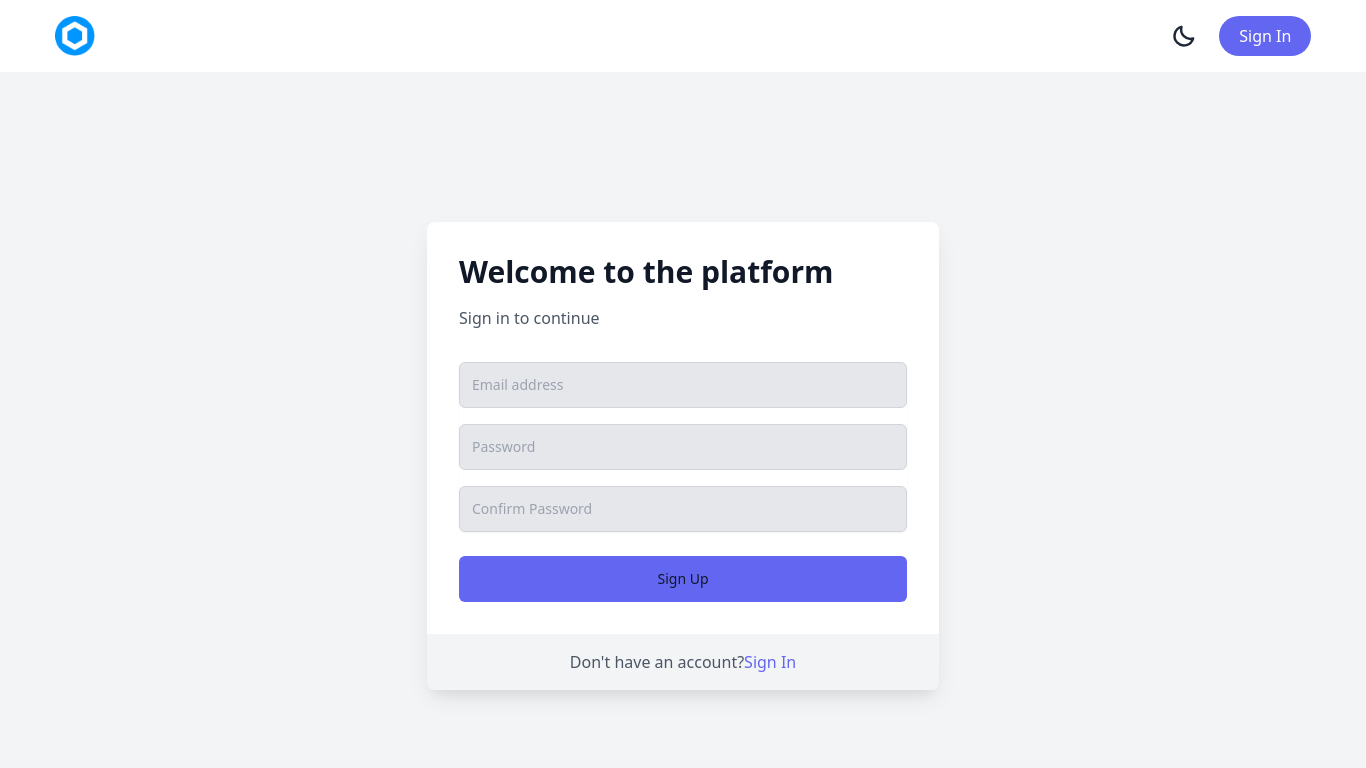
Test case: Login Page › should display an error when passwords do not match
Type "user@example.com" into the field named "email".
click(683, 385); type("user@example.com")  # box [459,362,907,408]
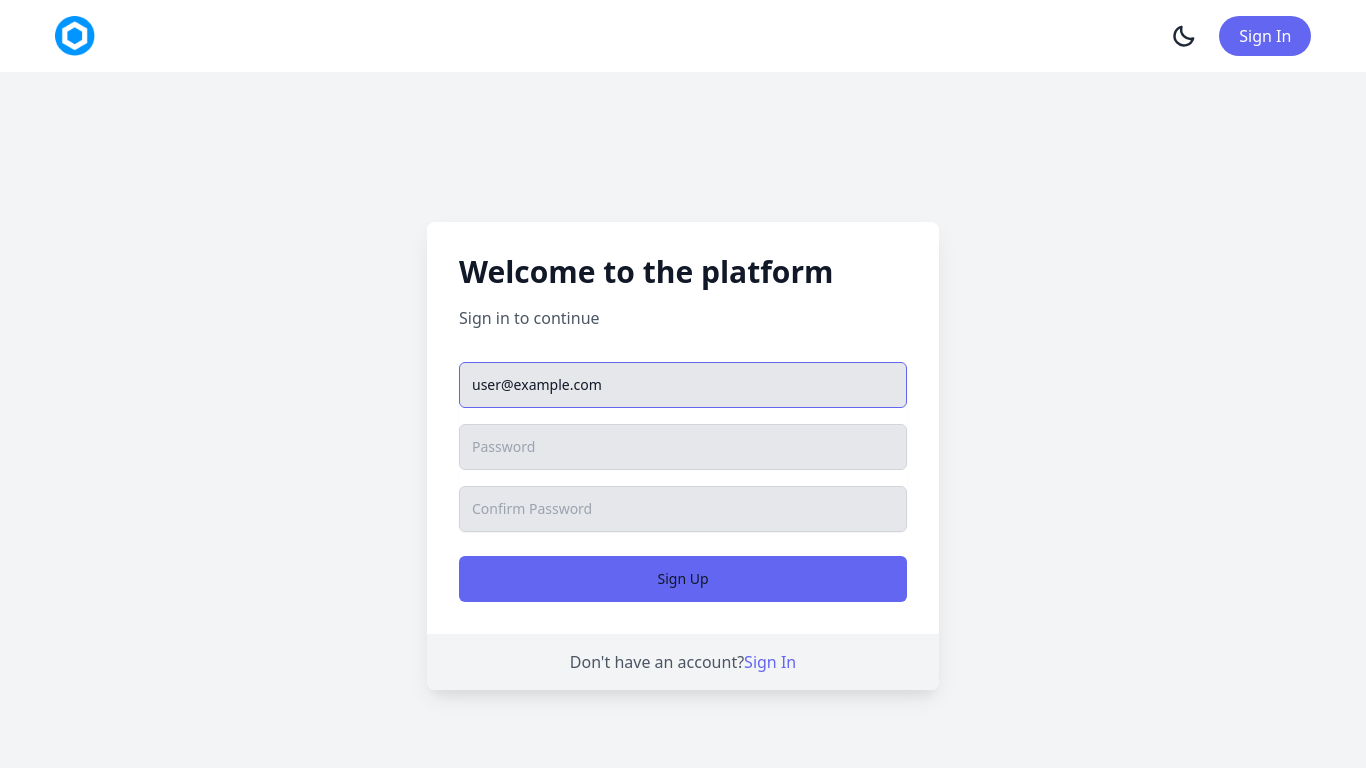
Type "password123" into the password field named "password".
click(683, 447); type("password123")  # box [459,424,907,470]
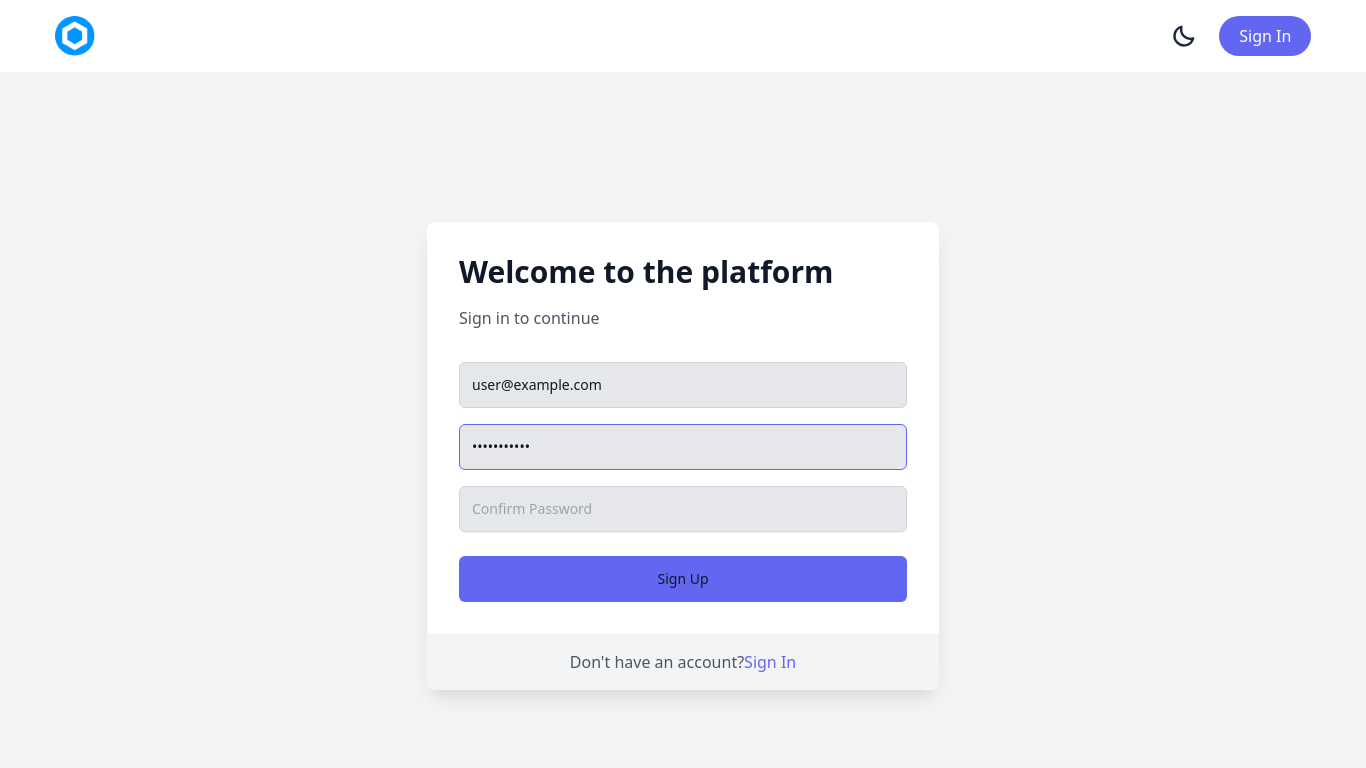
Type "password456" into the password field named "confirmPassword".
click(683, 509); type("password456")  # box [459,486,907,532]
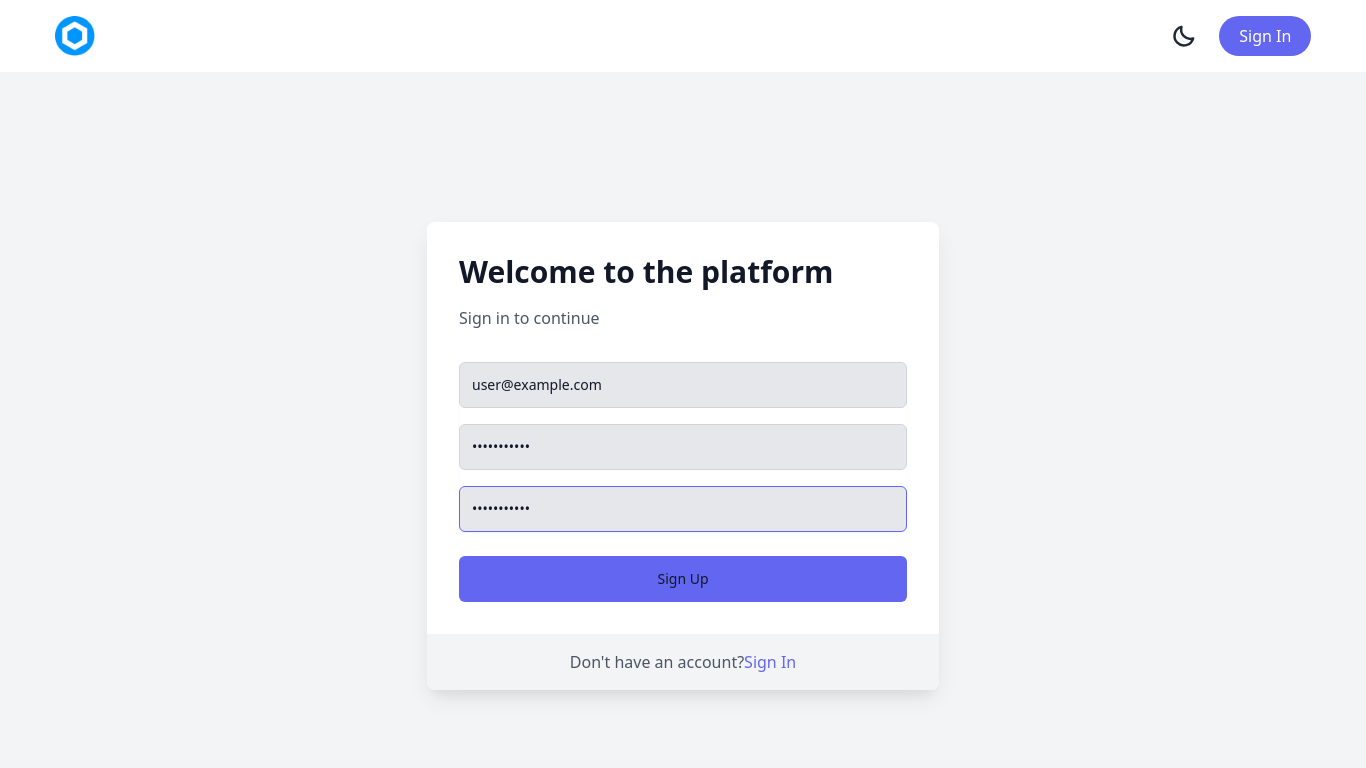
Click the submit button.
click(683, 579)  # box [459,556,907,602]
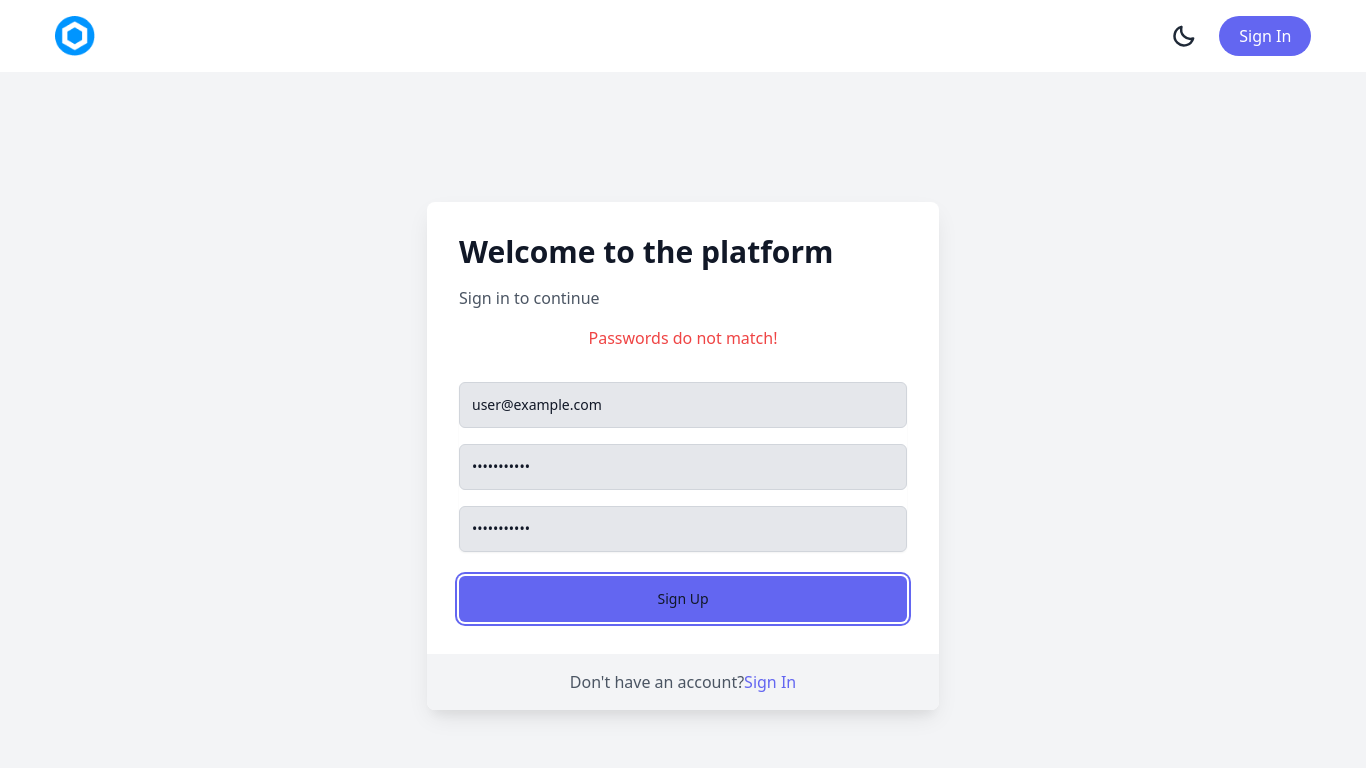
Now the text "Passwords do not match!" is shown, box [588,327,778,349]
